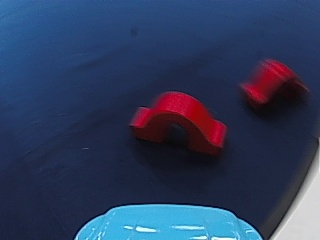bridge: (125, 86, 231, 153), (234, 57, 308, 118)
